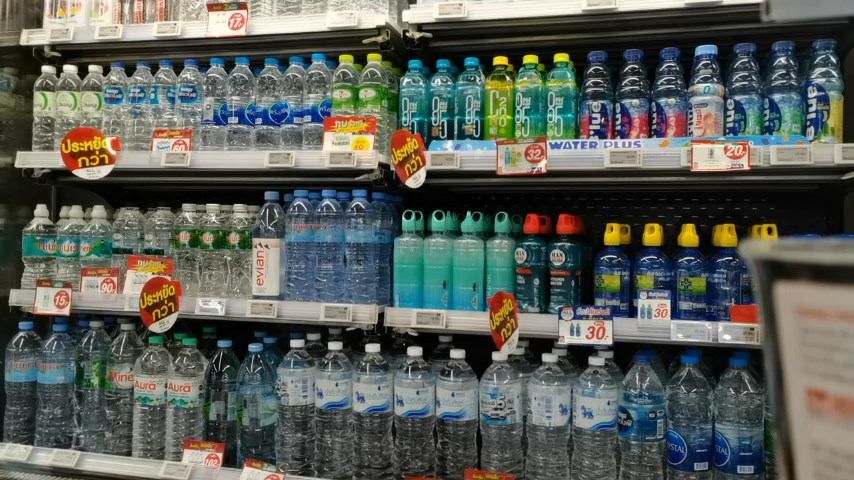1-1: (75, 317, 134, 454)
